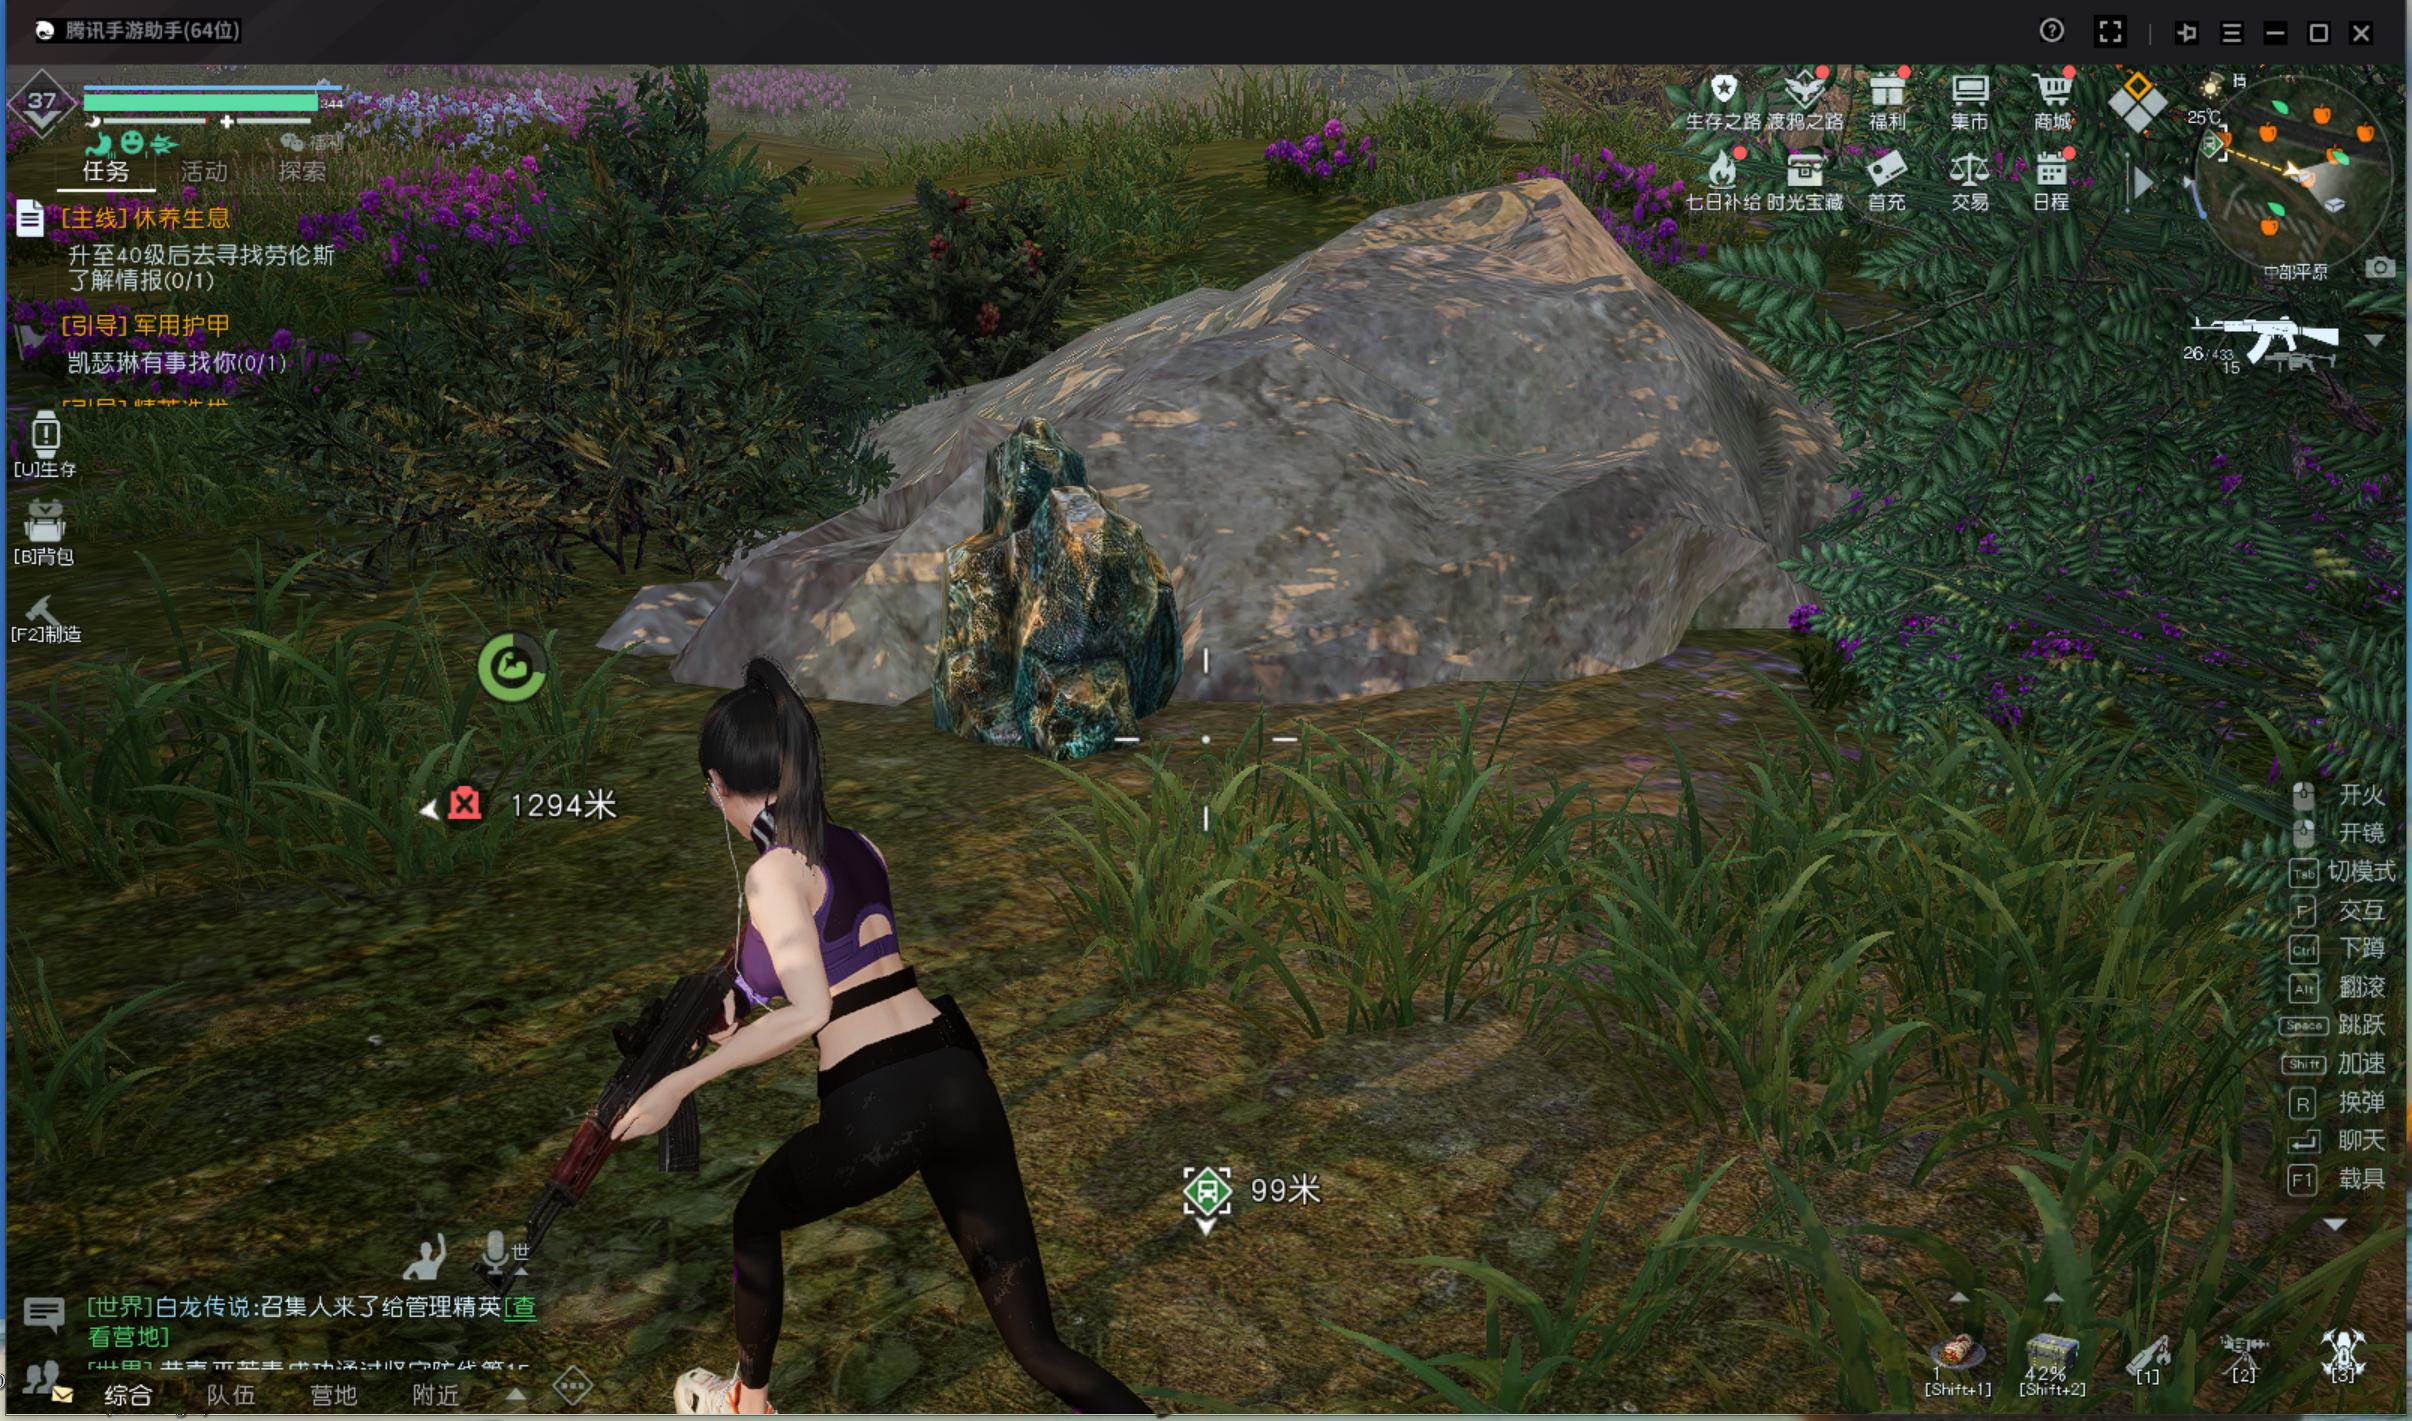stone: (918, 421, 1198, 787)
